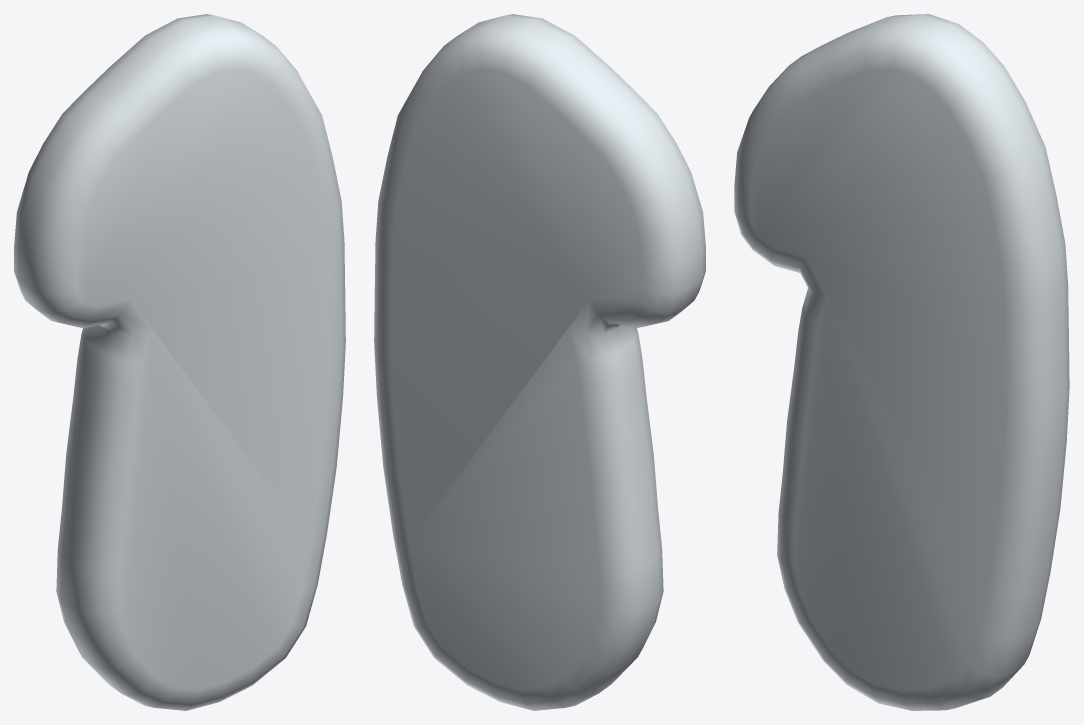
File: NumberOne 1.fbx
The picture shows the model from 3 angles, left to right: view 1: azimuth 30°, elevation 25°; view 2: azimuth 150°, elevation 25°; view 3: azimuth 330°, elevation 25°; orthographic projection.
Visible parts, largest first — view 1: Vert.002; view 2: Vert.002; view 3: Vert.002.
Boxes of the visible parts, box(x1,y1,x2,y2) form: Vert.002: box(14, 14, 345, 710); Vert.002: box(374, 14, 705, 710); Vert.002: box(734, 14, 1069, 710).
Bounding box in the file's own units: 158 × 329 × 40.74.
